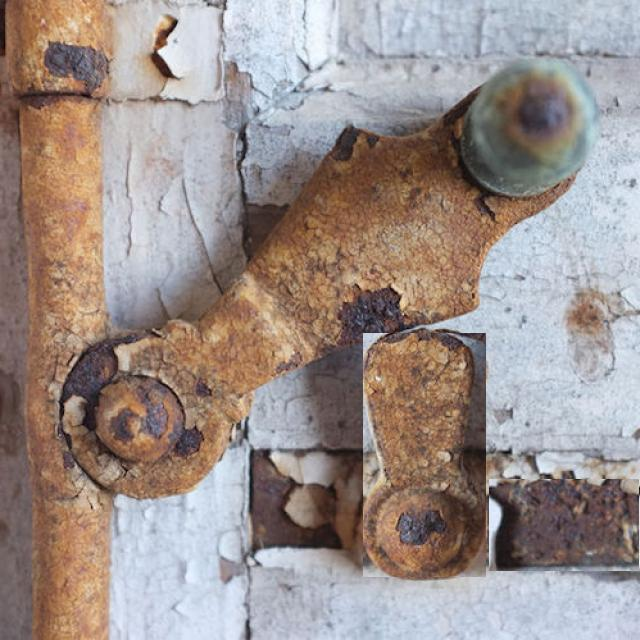Corrosion: (61, 90, 576, 500), (6, 0, 112, 640), (364, 330, 485, 580), (365, 330, 475, 488), (491, 480, 639, 570), (251, 451, 342, 552), (502, 70, 562, 160), (244, 204, 288, 258), (151, 14, 178, 77)
